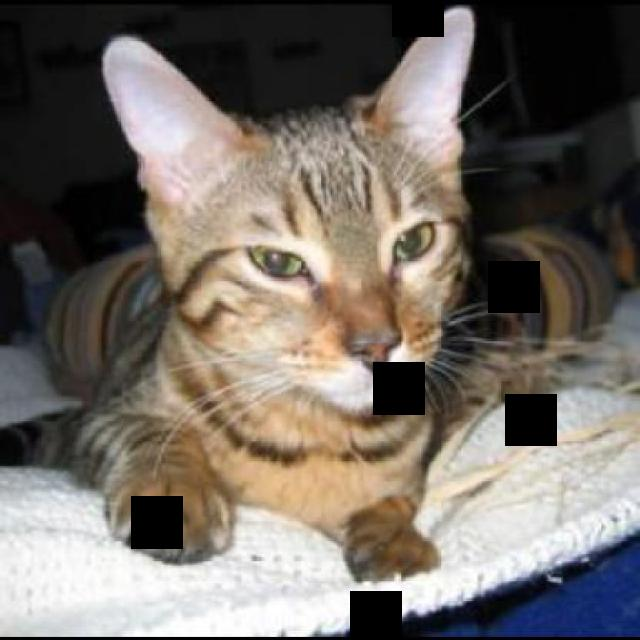unauthorized: (0, 4, 638, 584)
